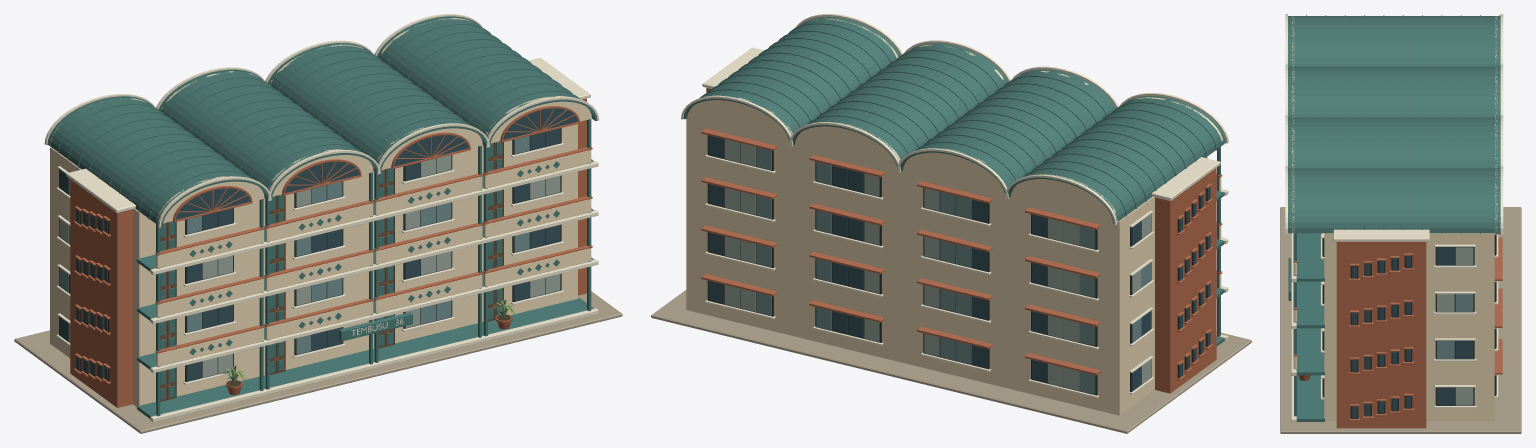
The picture shows the model from 3 angles, left to right: view 1: azimuth 30°, elevation 25°; view 2: azimuth 150°, elevation 25°; view 3: azimuth 270°, elevation 25°; orthographic projection. The views are drawn at different scales.
Parts seen in each view (by area): view 1: Segmental zinc vaults, Access galleries, Four storey walk-up, Casements and sills, End stairs, Entrance joinery, Radial fanlights, Potted pandan; view 2: Four storey walk-up, Segmental zinc vaults, Casements and sills, End stairs, Access galleries; view 3: Segmental zinc vaults, Four storey walk-up, End stairs, Casements and sills, Access galleries.
Boxes of the visible parts, x1,y1,x2,y2 form: Segmental zinc vaults: (44,14,599,227); Access galleries: (137,119,598,422); Four storey walk-up: (14,124,622,433); Casements and sills: (56,128,563,384); End stairs: (66,57,590,407); Entrance joinery: (156,141,503,401); Radial fanlights: (173,106,579,222); Potted pandan: (220,300,515,395); Four storey walk-up: (651,118,1251,433); Segmental zinc vaults: (681,14,1228,225); Casements and sills: (705,135,1213,398); End stairs: (702,47,1220,393); Access galleries: (1216,147,1228,346); Segmental zinc vaults: (1285,14,1503,234); Four storey walk-up: (1280,207,1521,433); End stairs: (1333,229,1429,428); Casements and sills: (1320,233,1498,421); Access galleries: (1288,233,1324,422).
Bounding box in the file's own units: 31.48 × 14.55 × 14.3.
